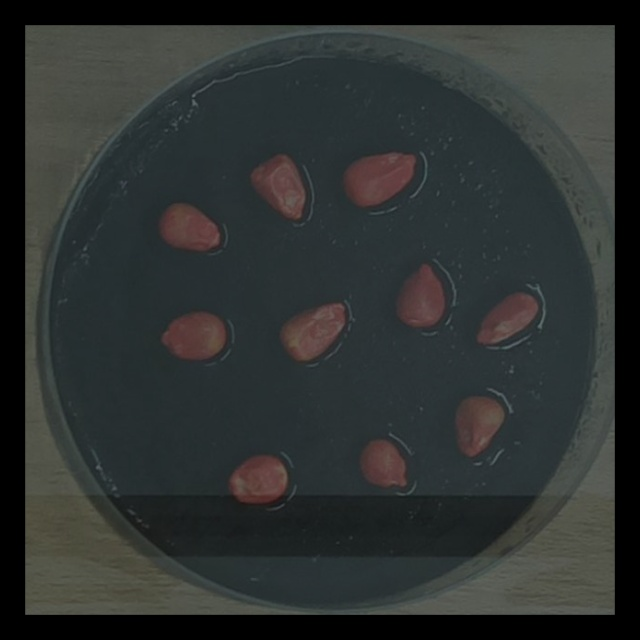Zea mays: (336, 144, 421, 212), (273, 294, 352, 367), (243, 146, 310, 226), (469, 284, 542, 352), (154, 304, 231, 365), (448, 387, 511, 461), (154, 196, 228, 259), (221, 448, 294, 510), (390, 256, 448, 333), (352, 430, 413, 495)
